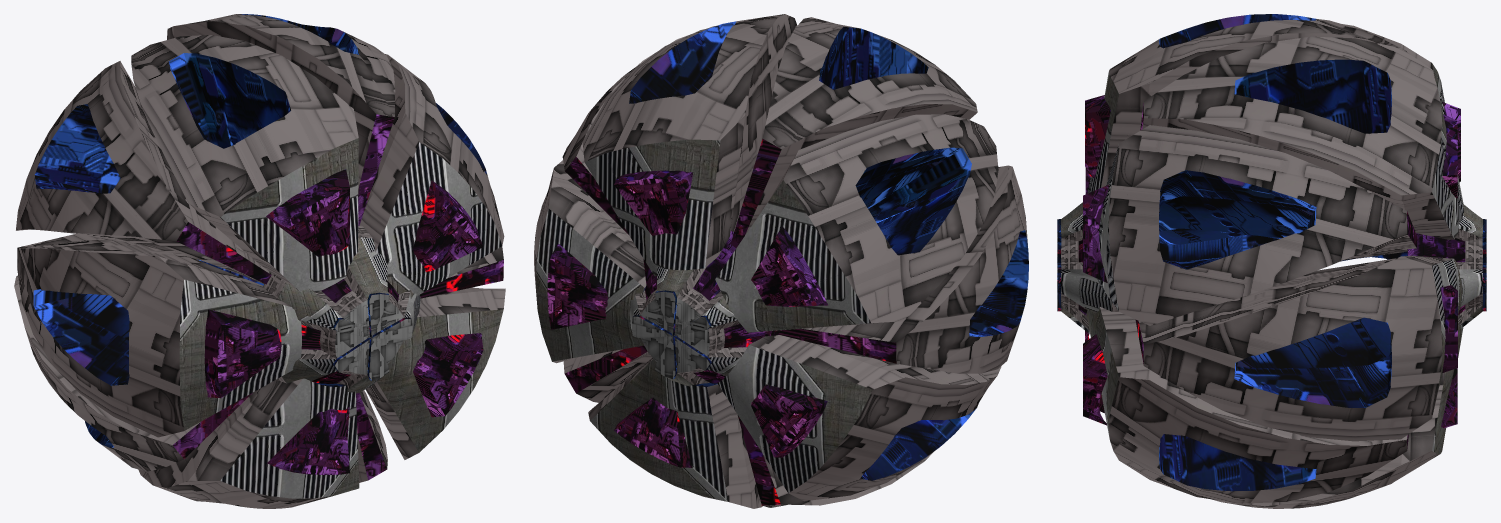
The model's file is RollingBalls_Sci-fi_3_3.glb.
3 views of the same model, side by side, from view 1: azimuth 30°, elevation 25°; view 2: azimuth 150°, elevation 25°; view 3: azimuth 270°, elevation 25° (orthographic). The views are drawn at different scales.
Visible parts, largest first — view 1: RollingBalls_Sci-fi_3_3; view 2: RollingBalls_Sci-fi_3_3; view 3: RollingBalls_Sci-fi_3_3.
Boxes of the visible parts, left/top/right/bottom form: RollingBalls_Sci-fi_3_3: left=14, top=14, right=505, bottom=508; RollingBalls_Sci-fi_3_3: left=534, top=14, right=1028, bottom=508; RollingBalls_Sci-fi_3_3: left=1057, top=14, right=1486, bottom=508.
Size of the model in its own units: 1.67 by 1.69 by 1.45.
Materials: 5 (5 with a texture image).
